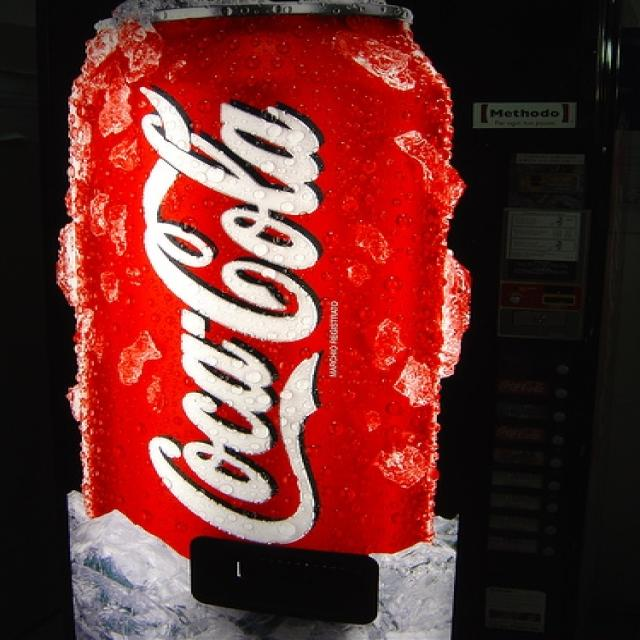cocacola: (114, 74, 356, 545)
